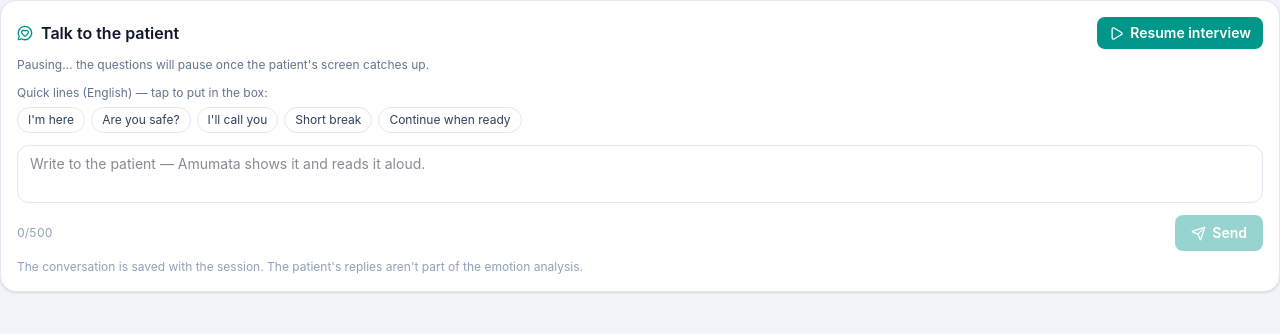
Scenario: LiveTalkPanel › not connected: says nothing was sent and keeps the text
In the text box: (640, 174) [17,145,1263,203], type "Hello"
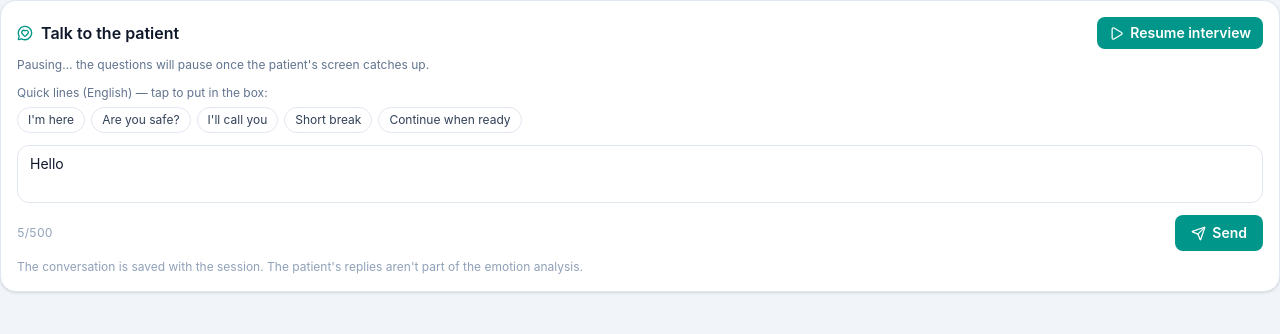
Click the button "Send": click(1219, 233) [1175,215,1263,251]
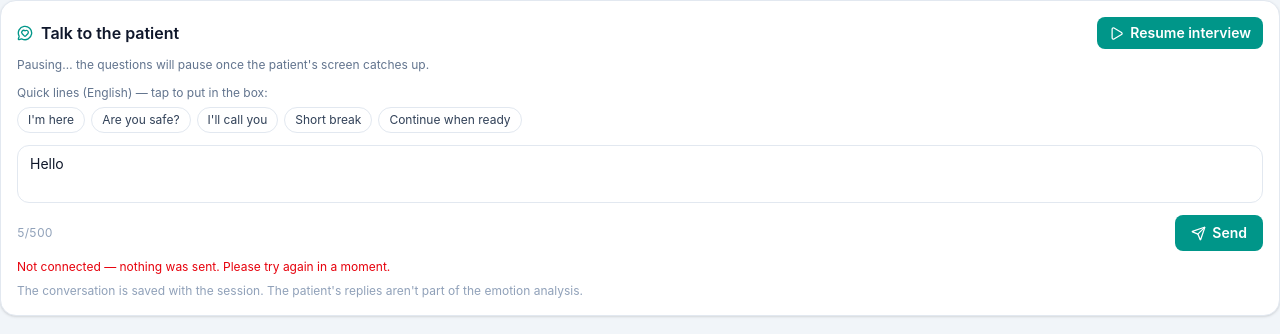
Expected: the message "Not connected — nothing was sent. Please try again in a moment." is shown, [17,259,390,274]
